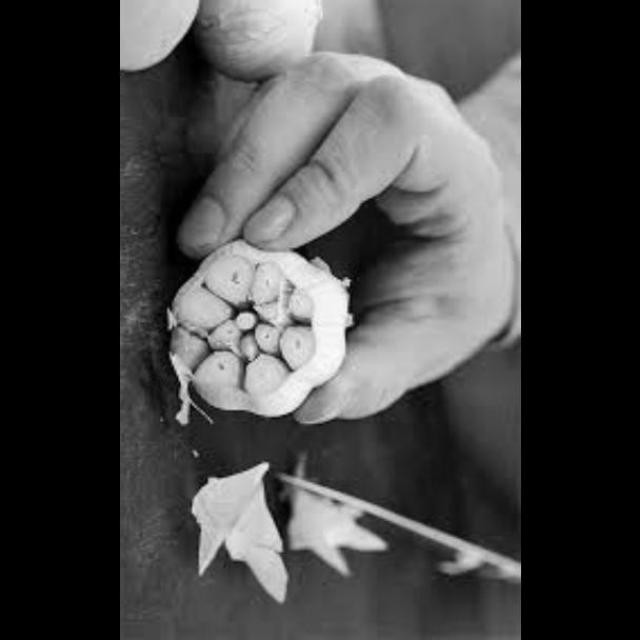garlic: (169, 237, 359, 426), (189, 0, 331, 84), (122, 0, 205, 84)
